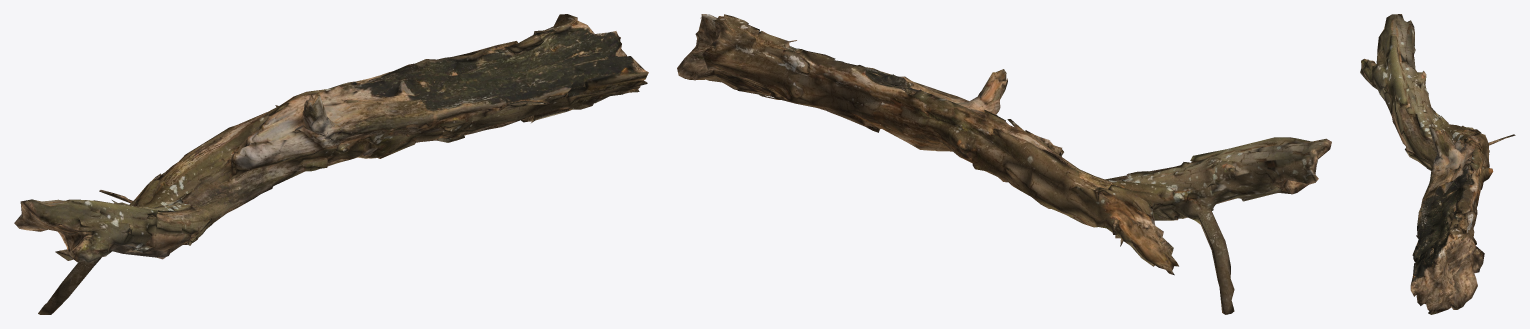
File: dead_tree_trunk_02.glb
3 views of the same model, side by side, from view 1: azimuth 30°, elevation 25°; view 2: azimuth 150°, elevation 25°; view 3: azimuth 270°, elevation 25° (orthographic). The views are drawn at different scales.
Parts seen in each view (by area): view 1: dead_tree_trunk_02_lod0; view 2: dead_tree_trunk_02_lod0; view 3: dead_tree_trunk_02_lod0.
Part boxes in pixels (<box>): dead_tree_trunk_02_lod0: <box>14,14,648,314</box>; dead_tree_trunk_02_lod0: <box>677,14,1331,314</box>; dead_tree_trunk_02_lod0: <box>1360,14,1515,314</box>.
Size of what is drawn, in the model's own units: 4.05 by 1.05 by 1.05.
Materials: 1 (1 with a texture image).
